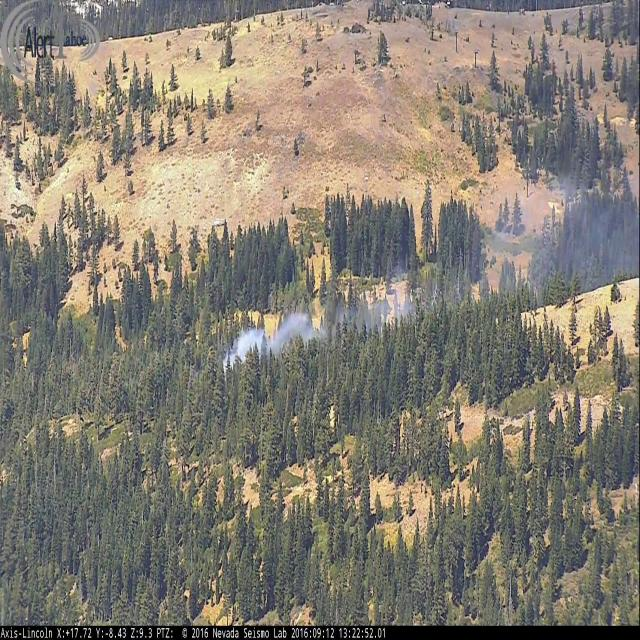smoke: (220, 166, 640, 373)
